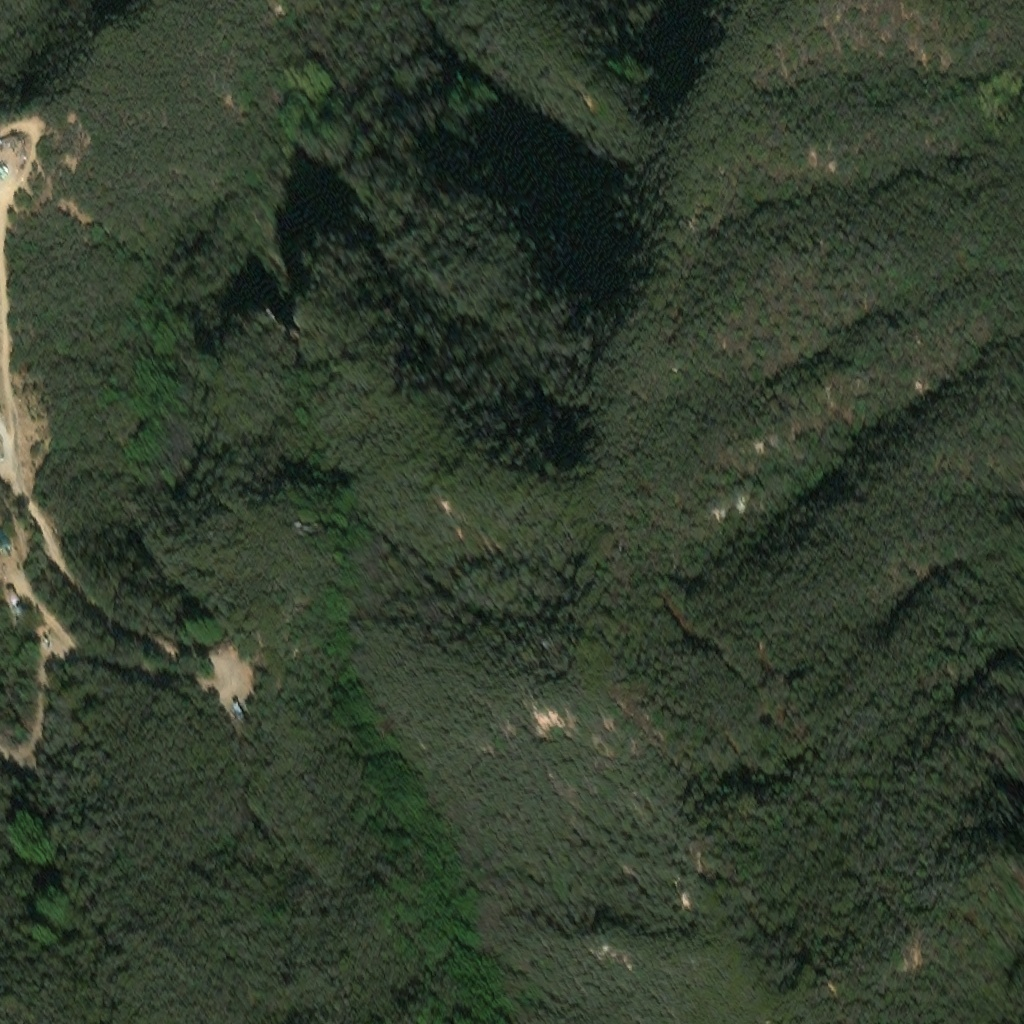4 un-classified: (0, 165, 12, 188), (218, 695, 231, 713), (226, 691, 238, 707), (1, 577, 12, 590), (7, 604, 20, 613), (9, 592, 19, 603), (236, 691, 243, 700), (216, 687, 225, 694)
